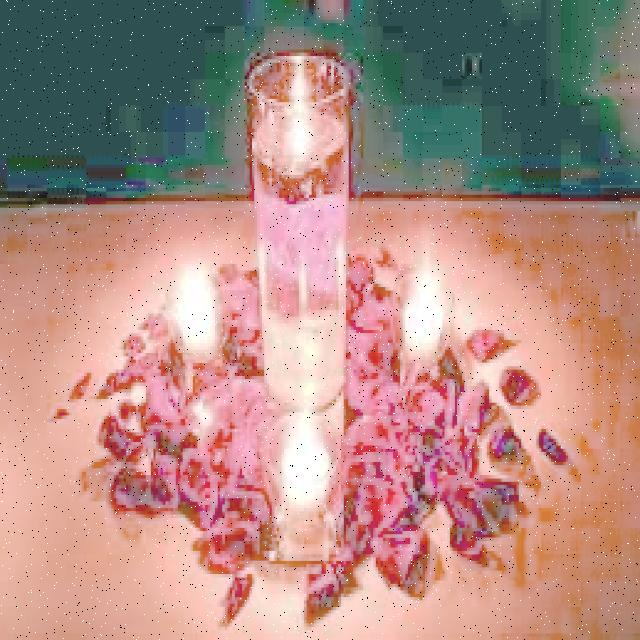api: (399, 252, 456, 361), (174, 256, 228, 338), (278, 404, 335, 476), (286, 77, 330, 149)
